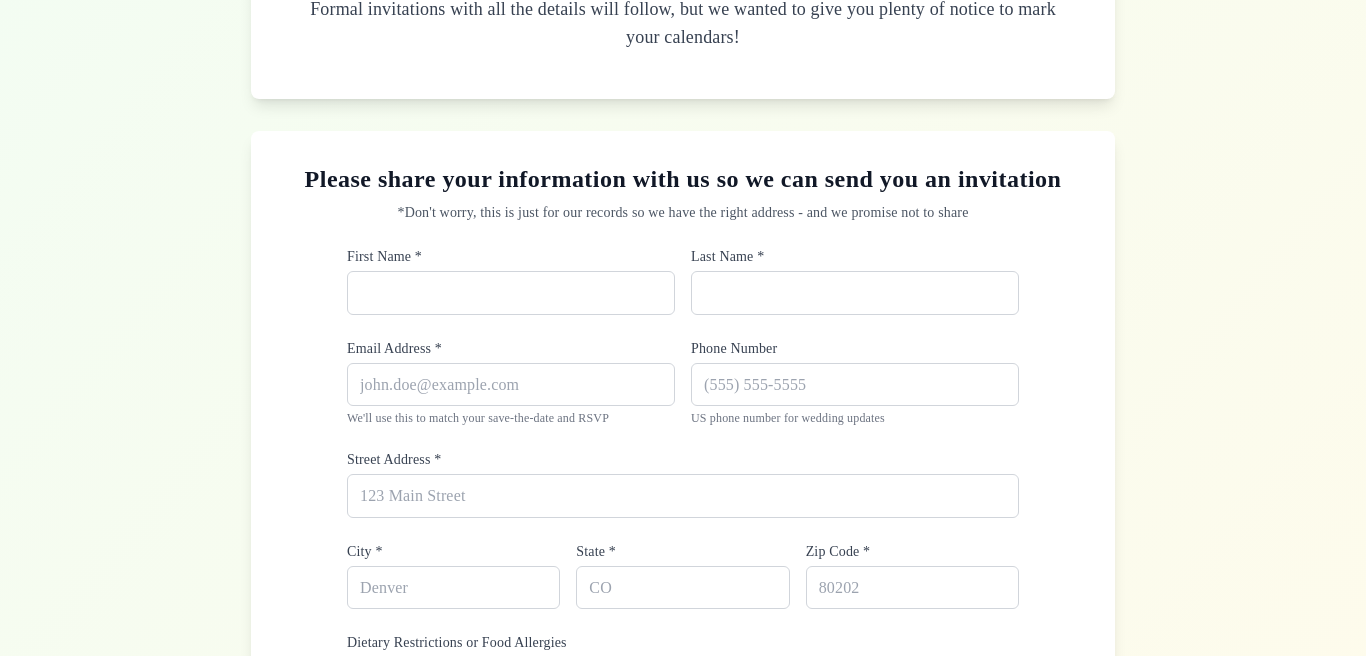
Scenario: Save the Date Form Functionality › validates email format
The image size is (1366, 656).
(page scrolled)
Type "invalid-email" into the field labelled "Email Address *" at (511, 384), box [347, 363, 675, 406]
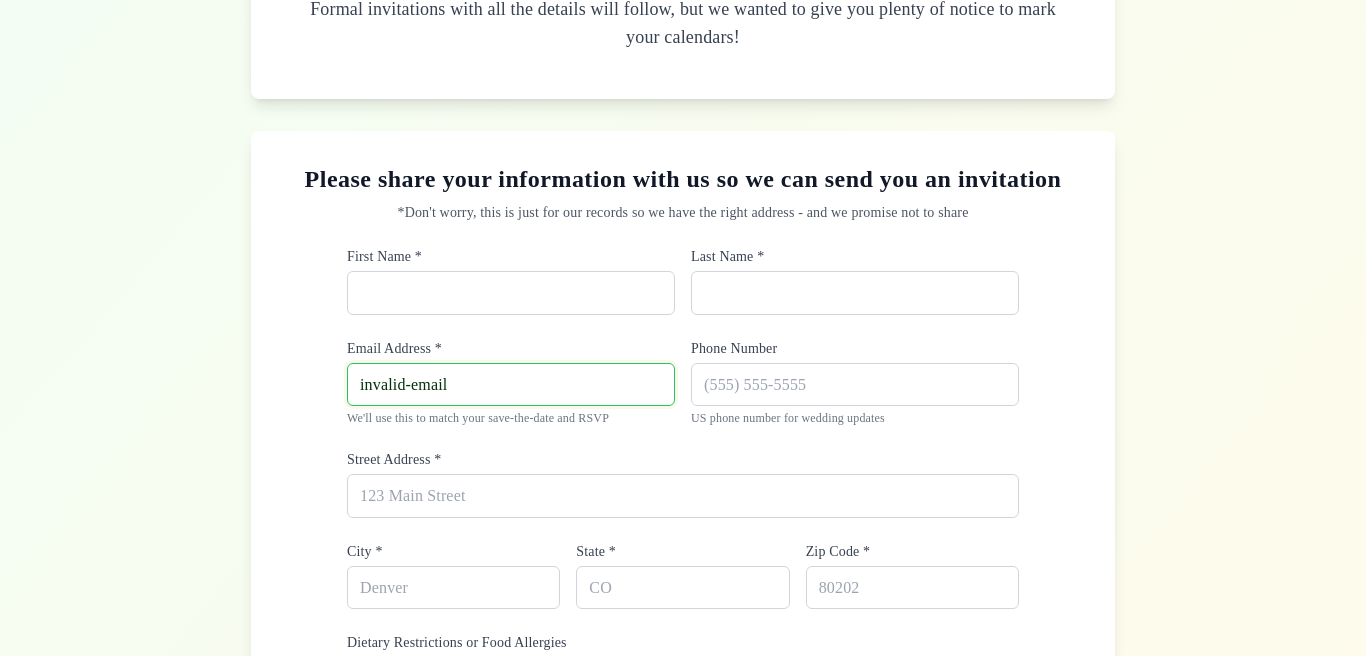
Press Tab
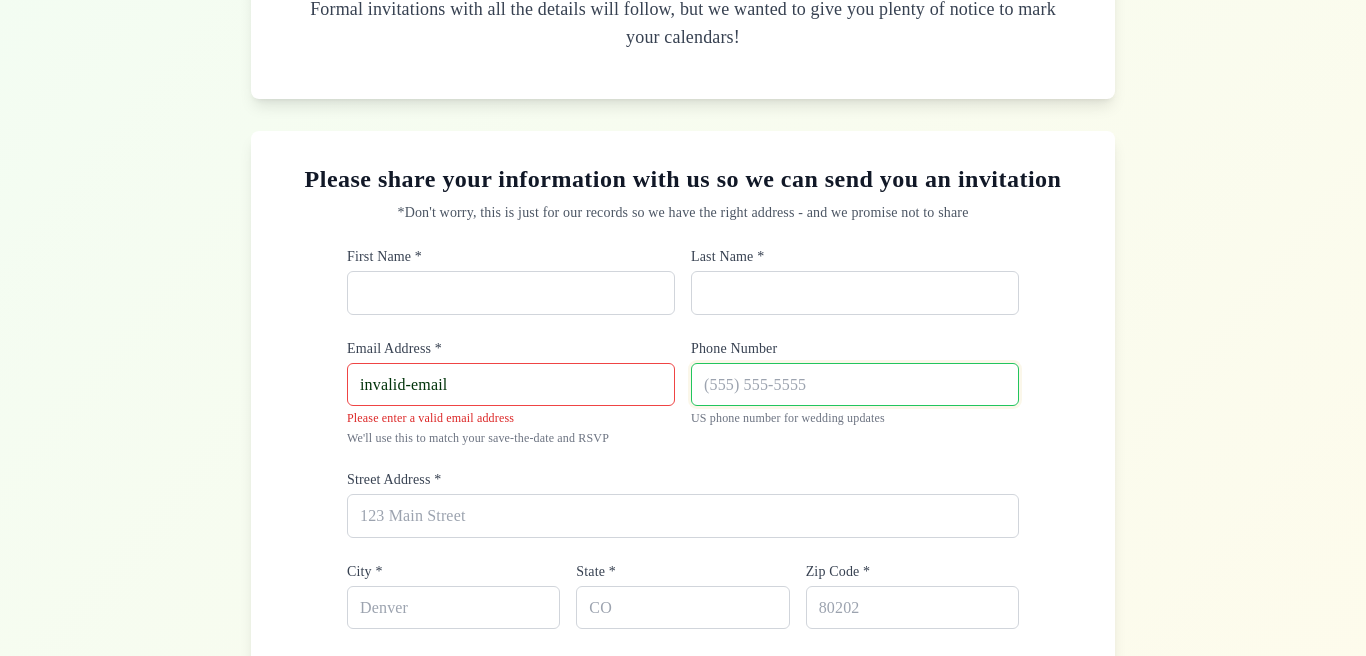
expect the text "Please enter a valid email address" is shown: met, box [347, 411, 514, 425]
